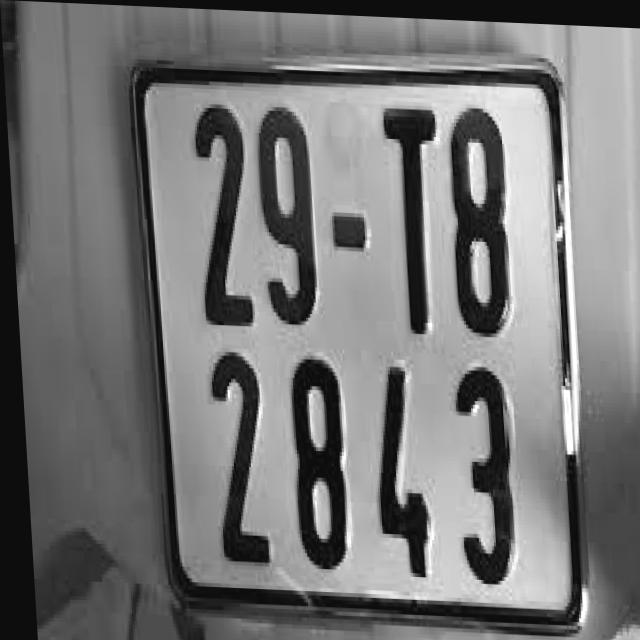a: (135, 51, 592, 637)
bien so: (96, 38, 616, 640)
